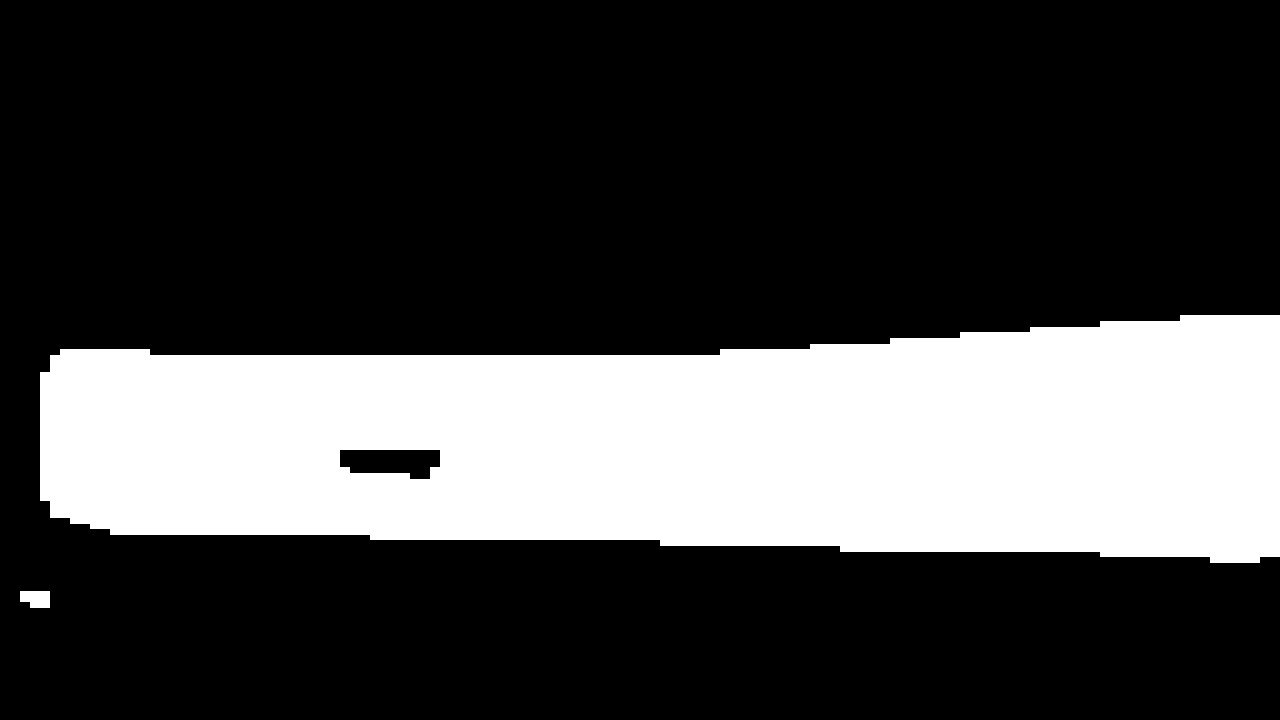Turbine: (20, 290, 1272, 559)
